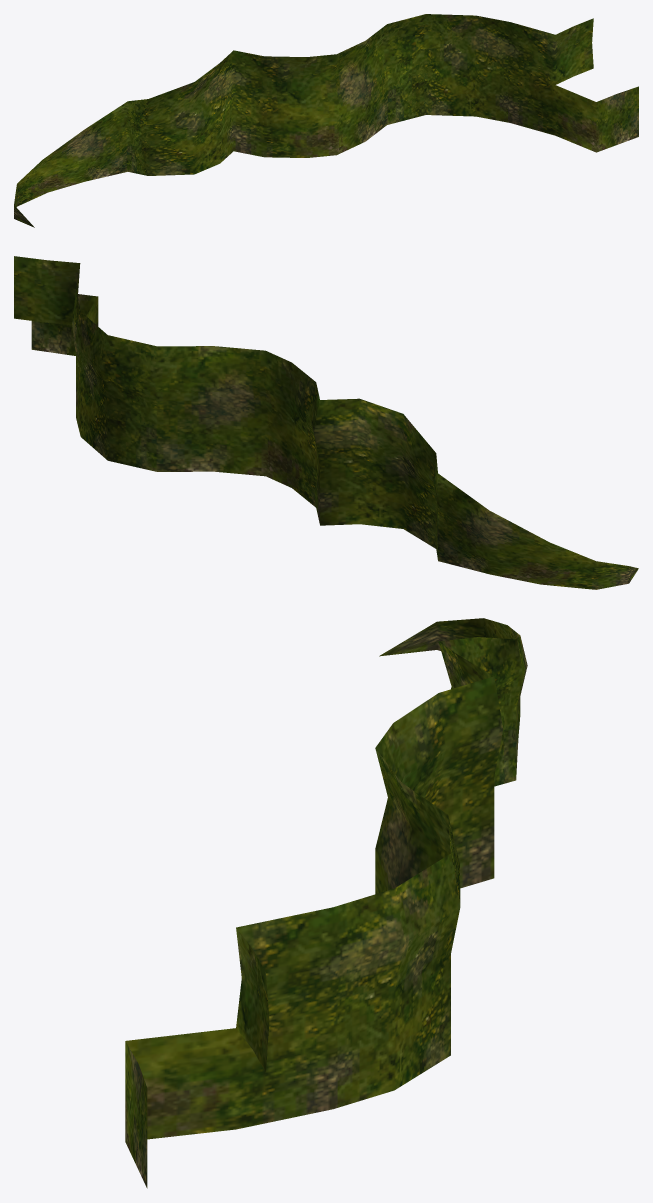
File: OVERHILL_A_01_OBJECT59.fbx
3 renders of one model, top to bottom at view 1: azimuth 30°, elevation 25°; view 2: azimuth 150°, elevation 25°; view 3: azimuth 270°, elevation 25°, orthographic. The views are drawn at different scales.
Visible parts, largest first — view 1: OVERHILL_A_01_OBJECT59; view 2: OVERHILL_A_01_OBJECT59; view 3: OVERHILL_A_01_OBJECT59.
Part boxes in pixels (box(x1,y1,x2,y2)): OVERHILL_A_01_OBJECT59: box(14, 14, 638, 227); OVERHILL_A_01_OBJECT59: box(14, 256, 638, 589); OVERHILL_A_01_OBJECT59: box(125, 618, 527, 1188).
Size of the model in its own units: 114815 by 20051 by 36198.
1 material, 1 textured.
